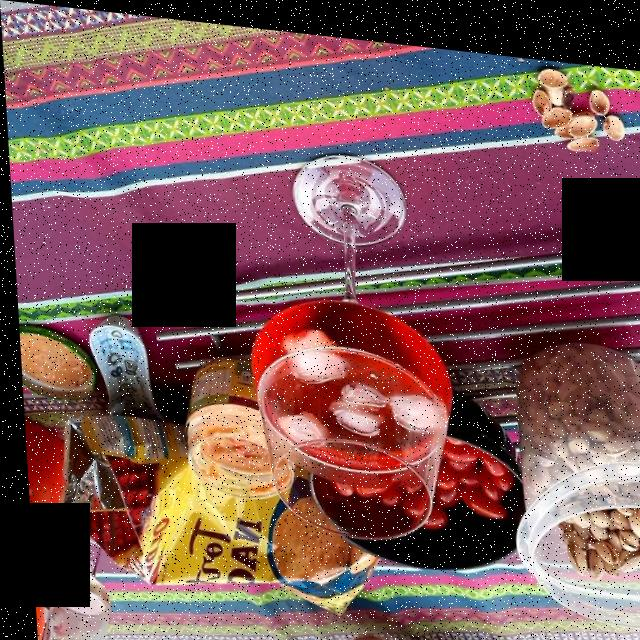aperitif-with-alcohol-aperol-spritz: (248, 295, 447, 468)
pistachio: (518, 339, 640, 562)
tomato-raw: (339, 446, 511, 516)
